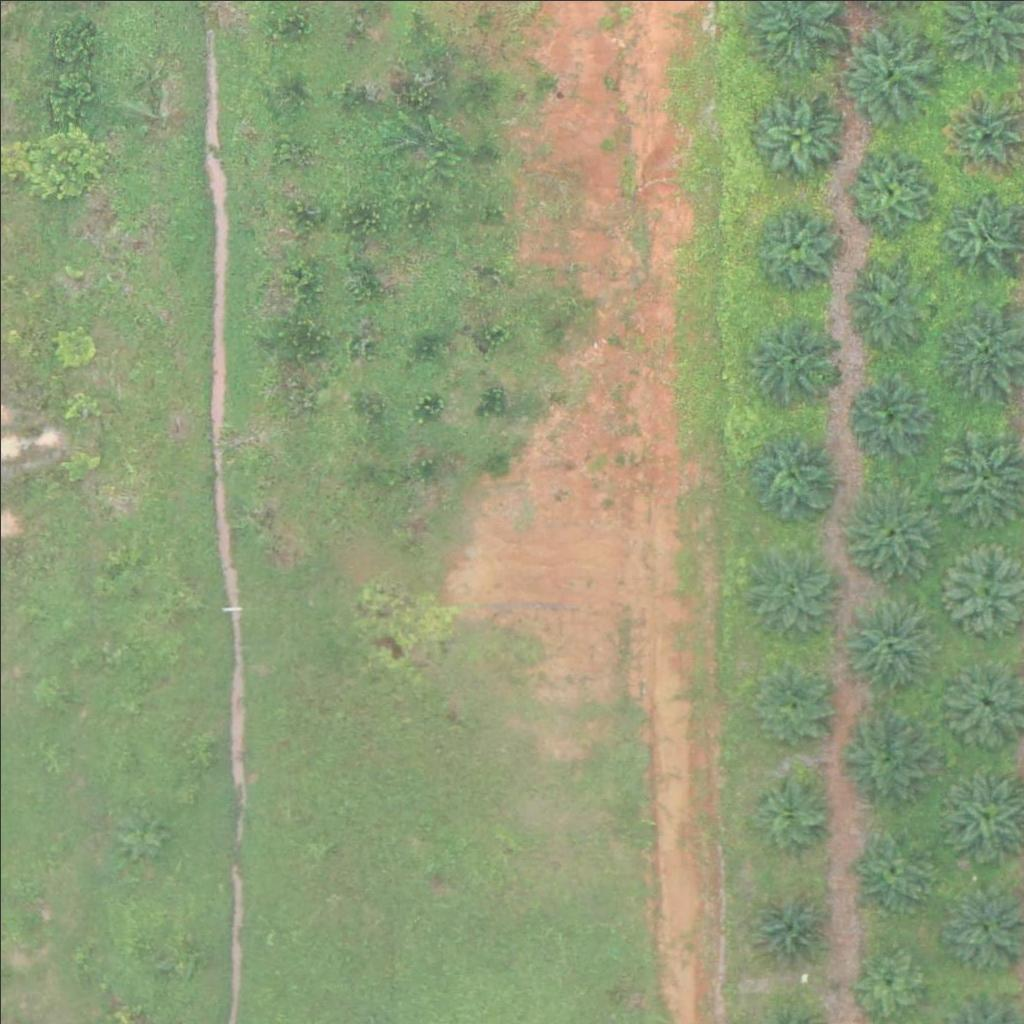Kelapa_Sawit: (833, 593, 933, 694), (840, 482, 940, 583), (741, 423, 841, 524), (837, 705, 937, 805), (841, 22, 941, 122), (747, 762, 835, 850), (844, 825, 932, 913), (847, 371, 935, 459), (745, 315, 833, 403), (749, 201, 837, 289), (748, 91, 836, 179), (744, 881, 831, 969), (844, 259, 931, 347), (748, 661, 835, 749), (748, 546, 835, 634), (847, 148, 934, 236), (848, 940, 923, 1015)
